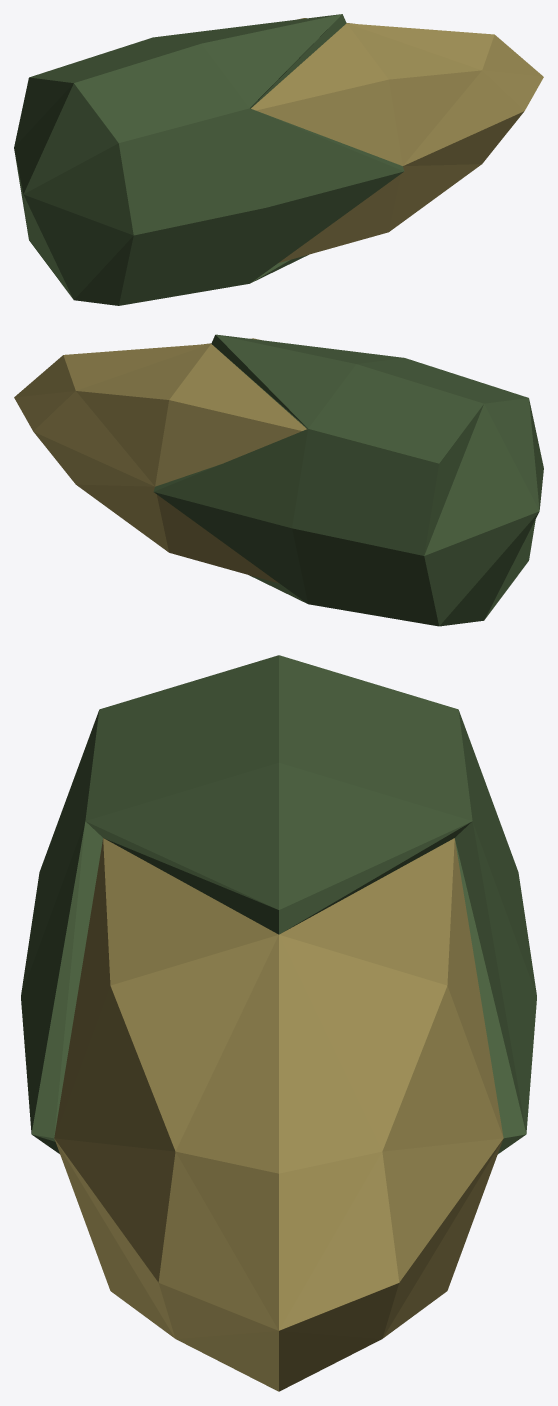
File: produce_corn.glb
3 views of the same model, one above another, from view 1: azimuth 30°, elevation 25°; view 2: azimuth 150°, elevation 25°; view 3: azimuth 270°, elevation 25° (orthographic). The views are drawn at different scales.
Bounding box in the file's own units: 1 × 0.4274 × 0.4274.
